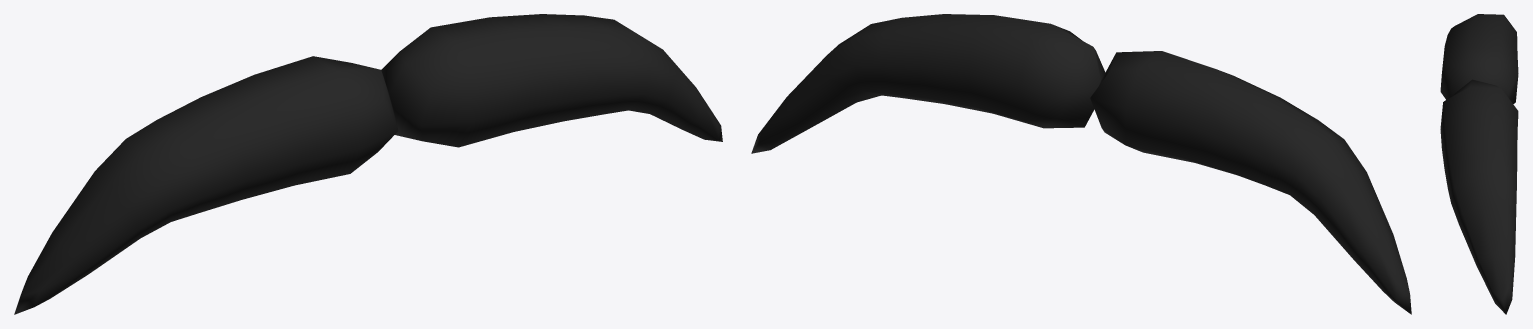
Rendered from Mustache_Black_003.glb.
3 views of the same model, side by side, from view 1: azimuth 30°, elevation 25°; view 2: azimuth 150°, elevation 25°; view 3: azimuth 270°, elevation 25° (orthographic). The views are drawn at different scales.
Visible parts, largest first — view 1: Mustache_Black_003; view 2: Mustache_Black_003; view 3: Mustache_Black_003.
Part boxes in pixels (x1,y1,x2,y2): Mustache_Black_003: (14,14,722,314); Mustache_Black_003: (751,14,1411,314); Mustache_Black_003: (1440,14,1518,314).
Size of the model in its own units: 0.2498 by 0.0646 by 0.0351.
Materials: 1 (1 with a texture image).
